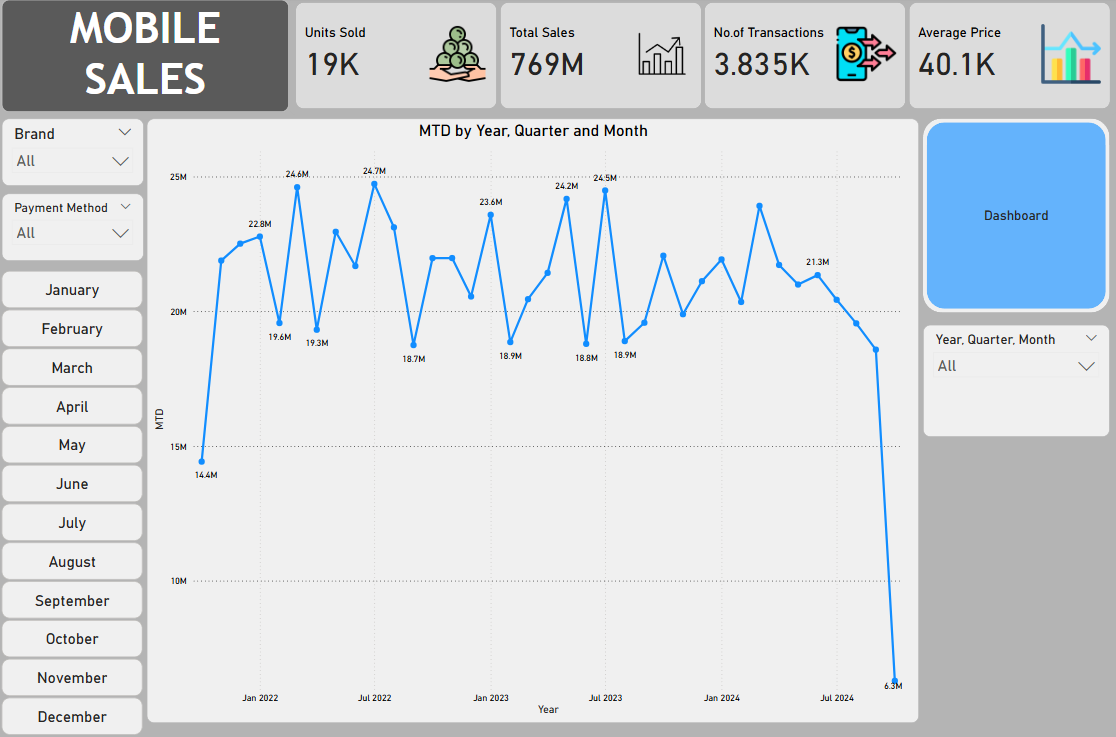

What the dashboard file says about the page in this screenshot:
{"tool":"powerbi","page":{"name":"MTD Report","canvas":[1500,1000],"ordinal":1},"visuals":[{"type":"shape","box":[1240,165,250,260],"z":0},{"type":"advancedSlicerVisual","fields":{"Values":["Custom Calender.Date.Variation.Date Hierarchy.Month"]},"box":[0,363.6,199.4,636.7],"z":1000},{"type":"cardVisual","fields":{"Data":["Sum(Moble Sales Data.Units Sold)","Moble Sales Data.Total Sales","CountNonNull(Moble Sales Data.Transaction ID)","Avg(Moble Sales Data.Price Per Unit)"]},"box":[390,0,1110,160],"z":2000},{"type":"textbox","box":[5,5,385,150],"z":3000},{"type":"slicer","fields":{"Values":["Moble Sales Data.Brand"]},"box":[5,165,190,90],"z":4000},{"type":"slicer","fields":{"Values":["Moble Sales Data.Payment Method"]},"box":[5,265,190,90],"z":5000},{"type":"lineChart","fields":{"Y":["Moble Sales Data.MTD"],"Category":["Custom Calender.Date.Variation.Date Hierarchy.Year","Custom Calender.Date.Variation.Date Hierarchy.Quarter","Custom Calender.Date.Variation.Date Hierarchy.Month","Custom Calender.Date.Variation.Date Hierarchy.Day"]},"box":[200,165,1035,810],"z":6000},{"type":"slicer","fields":{"Values":["Custom Calender.Date.Variation.Date Hierarchy.Year","Custom Calender.Date.Variation.Date Hierarchy.Quarter","Custom Calender.Date.Variation.Date Hierarchy.Month"]},"box":[1240,440,250,150],"z":7000},{"type":"pageNavigator","box":[1245,170,240,250],"z":8000}]}

Visuals, with their boxes in screenshot pixels (x1, y1, x2, y2), scaled from the page's 1500x1000 canvas onto the 1116x737 screenshot:
shape: x1=923, y1=122, x2=1109, y2=313
advancedSlicerVisual - Custom Calender.Date.Variation.Date Hierarchy.Month: x1=0, y1=268, x2=148, y2=736
cardVisual - Sum(Moble Sales Data.Units Sold) x Moble Sales Data.Total Sales: x1=290, y1=0, x2=1115, y2=118
textbox: x1=4, y1=4, x2=290, y2=114
slicer - Moble Sales Data.Brand: x1=4, y1=122, x2=145, y2=188
slicer - Moble Sales Data.Payment Method: x1=4, y1=195, x2=145, y2=262
lineChart - Moble Sales Data.MTD x Custom Calender.Date.Variation.Date Hierarchy.Year: x1=149, y1=122, x2=919, y2=719
slicer - Custom Calender.Date.Variation.Date Hierarchy.Year x Custom Calender.Date.Variation.Date Hierarchy.Quarter: x1=923, y1=324, x2=1109, y2=435
pageNavigator: x1=926, y1=125, x2=1105, y2=310
